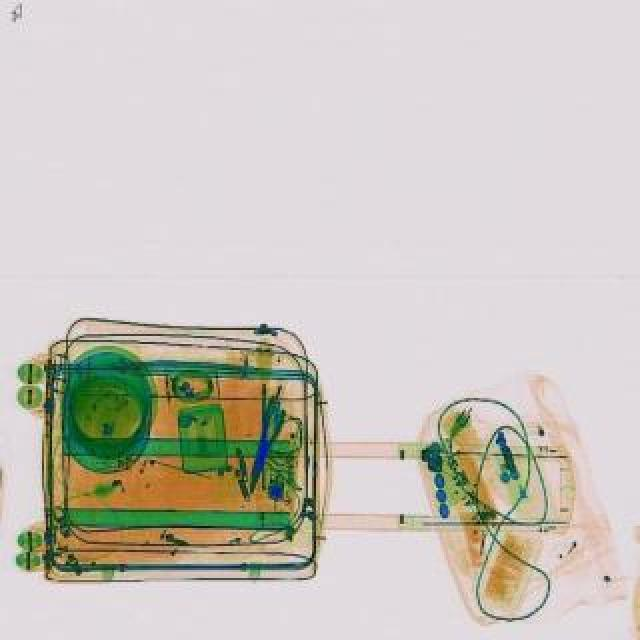wrench: (242, 392, 294, 496)
